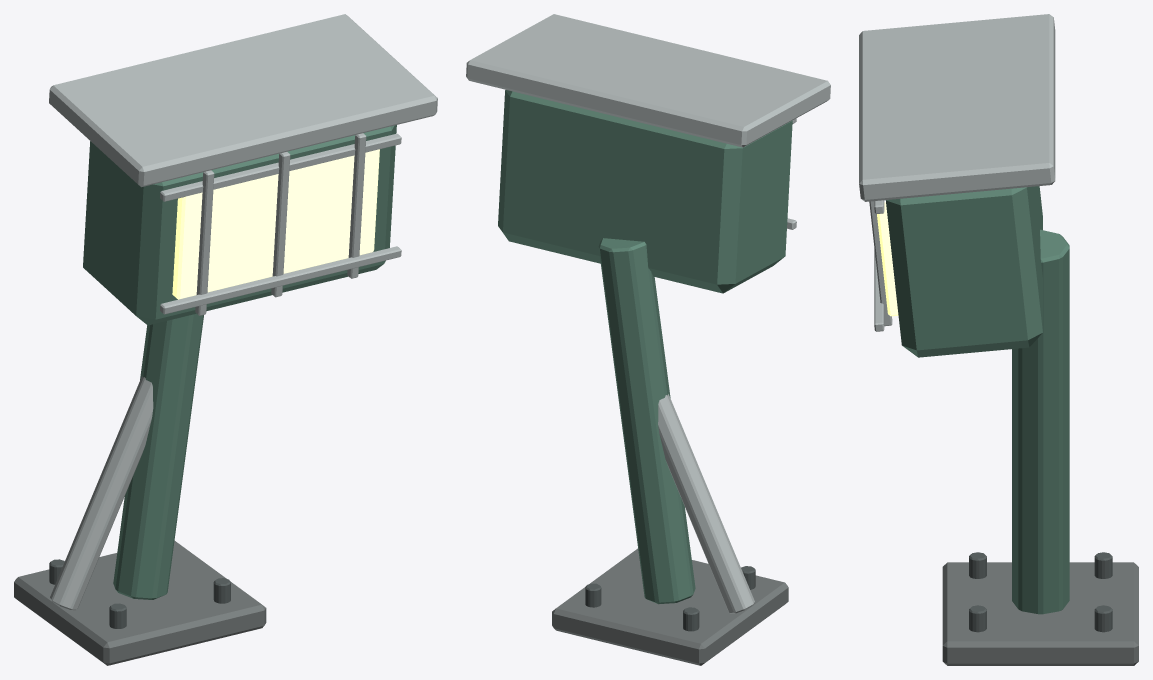
Rendered from runtime.glb.
The picture shows the model from 3 angles, left to right: view 1: azimuth 30°, elevation 25°; view 2: azimuth 150°, elevation 25°; view 3: azimuth 270°, elevation 25°; orthographic projection. The views are drawn at different scales.
Parts seen in each view (by area): view 1: reactor-maintenance-light-v09_nocol; view 2: reactor-maintenance-light-v09_nocol; view 3: reactor-maintenance-light-v09_nocol.
Part boxes in pixels (x1,y1,x2,y2): reactor-maintenance-light-v09_nocol: (14,14,437,665); reactor-maintenance-light-v09_nocol: (466,14,830,665); reactor-maintenance-light-v09_nocol: (859,14,1138,665).
Bounding box in the file's own units: 1.33 × 2.31 × 1.03.
